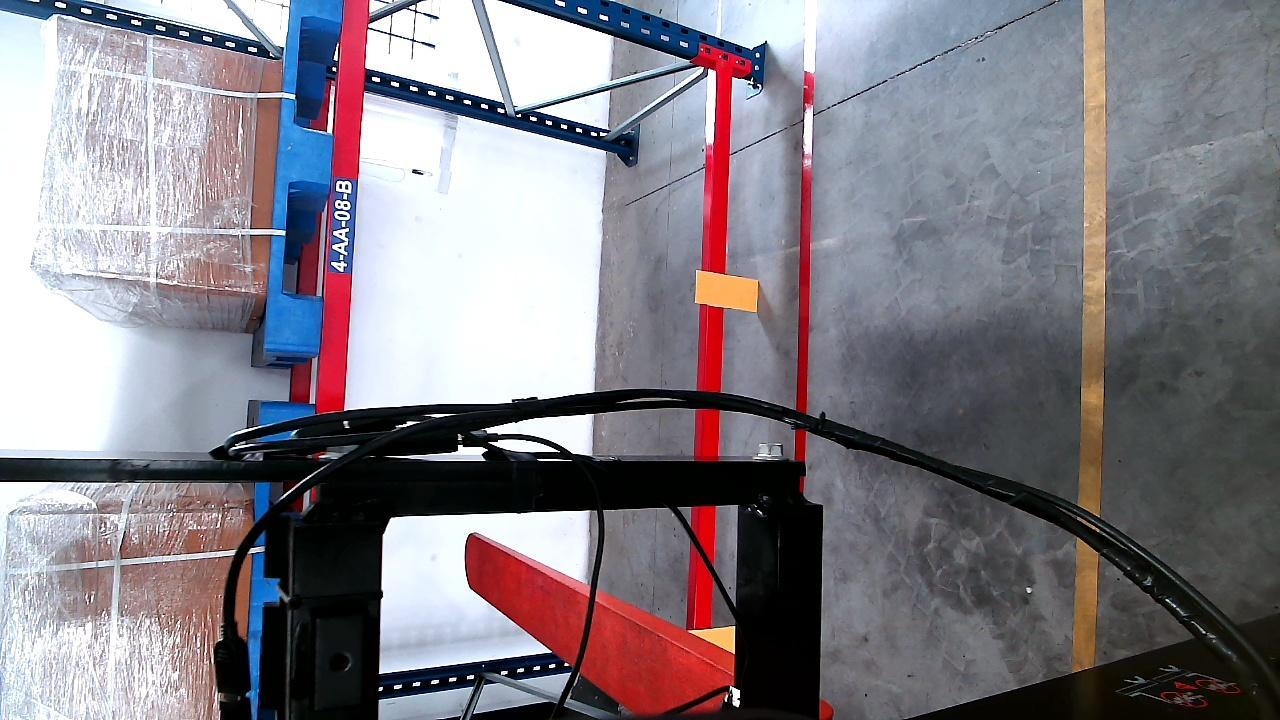red_line: (796, 0, 817, 409)
yellow_line: (1073, 0, 1107, 669)
